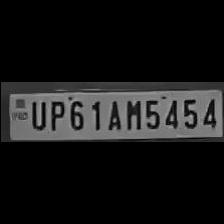1: (86, 97, 102, 131)
4: (199, 95, 219, 129), (161, 96, 179, 130)
5: (178, 95, 198, 129), (142, 96, 160, 130)
6: (65, 97, 85, 132)
A: (102, 97, 122, 131)
M: (122, 96, 142, 132)
P: (45, 97, 63, 132)
U: (27, 98, 46, 132)
